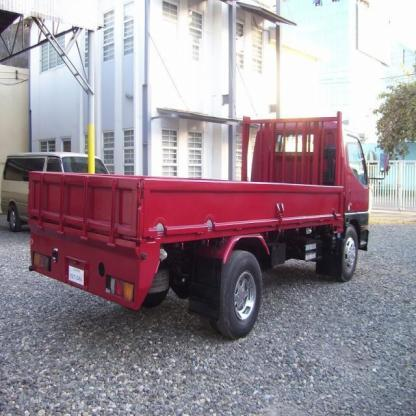truck: (30, 114, 392, 340)
